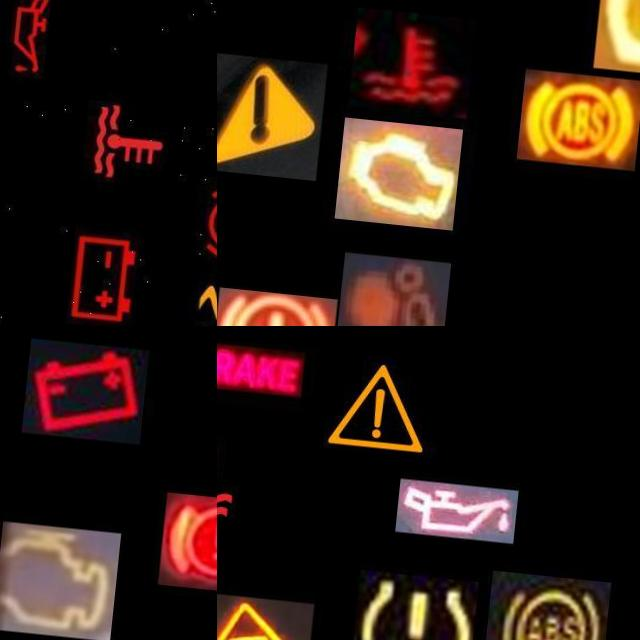Central Warning lamp: (318, 336, 445, 464), (217, 50, 334, 176)
Engine cooling system: (356, 1, 482, 111), (217, 408, 259, 535)
